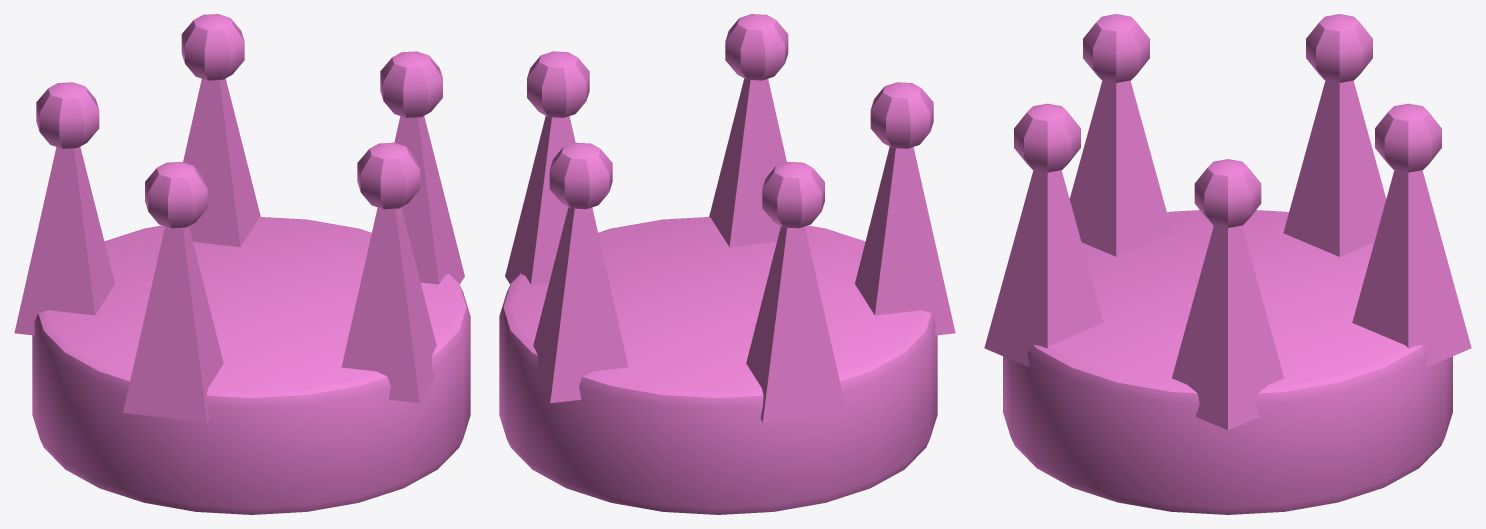
The model's file is Item_Crown.fbx.
The picture shows the model from 3 angles, left to right: view 1: azimuth 30°, elevation 25°; view 2: azimuth 150°, elevation 25°; view 3: azimuth 270°, elevation 25°; orthographic projection. The views are drawn at different scales.
Visible parts, largest first — view 1: Crown; view 2: Crown; view 3: Crown.
Part boxes in pixels (<box>): Crown: <box>14,14,470,514</box>; Crown: <box>499,14,955,514</box>; Crown: <box>984,14,1471,514</box>.
Size of the model in its own units: 3.4 by 2.7 by 3.47.
1 material, 1 textured.
